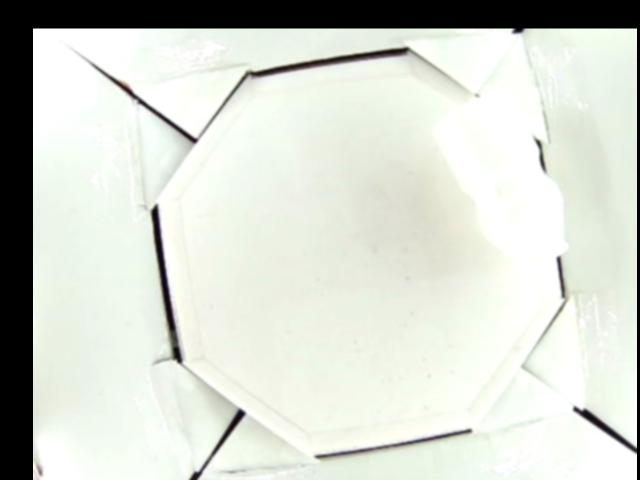Bottle: (424, 92, 571, 271)
